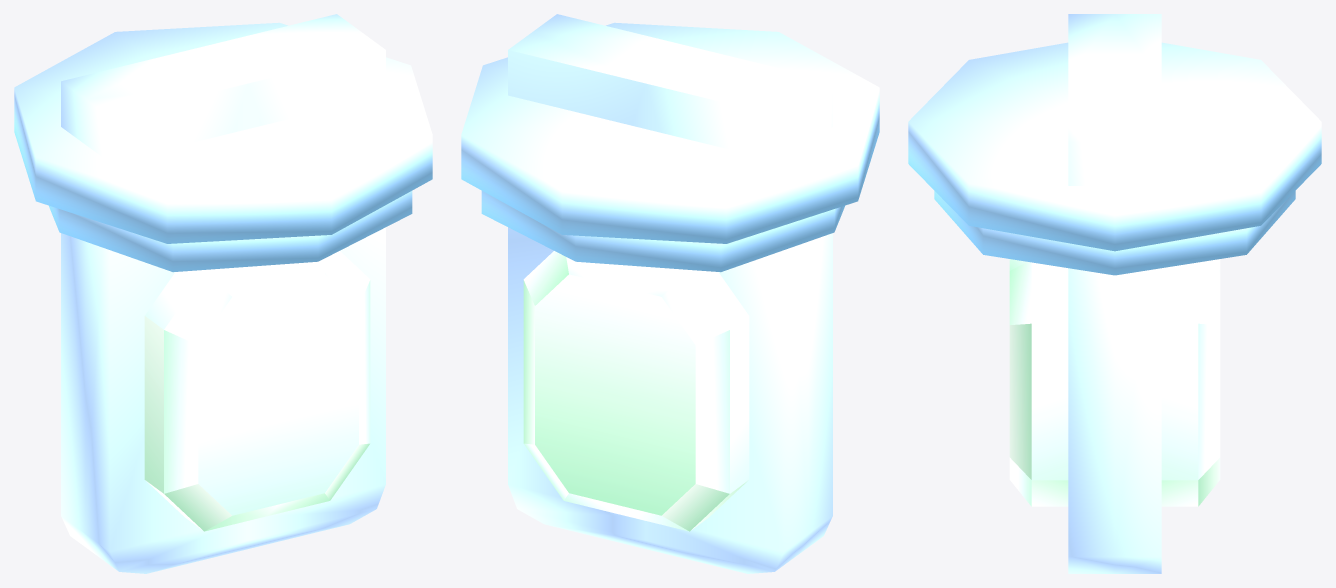
File: steel_pommel_122.glb
3 views of the same model, side by side, from view 1: azimuth 30°, elevation 25°; view 2: azimuth 150°, elevation 25°; view 3: azimuth 270°, elevation 25° (orthographic). The views are drawn at different scales.
Visible parts, largest first — view 1: steel_pommel_122; view 2: steel_pommel_122; view 3: steel_pommel_122.
Boxes of the visible parts, x1=… form: steel_pommel_122: x1=14, y1=14, x2=432, y2=573; steel_pommel_122: x1=461, y1=14, x2=879, y2=573; steel_pommel_122: x1=908, y1=14, x2=1321, y2=573.
Size of the model in its own units: 1.83 by 2.17 by 1.83.
Materials: 1 (1 with a texture image).
